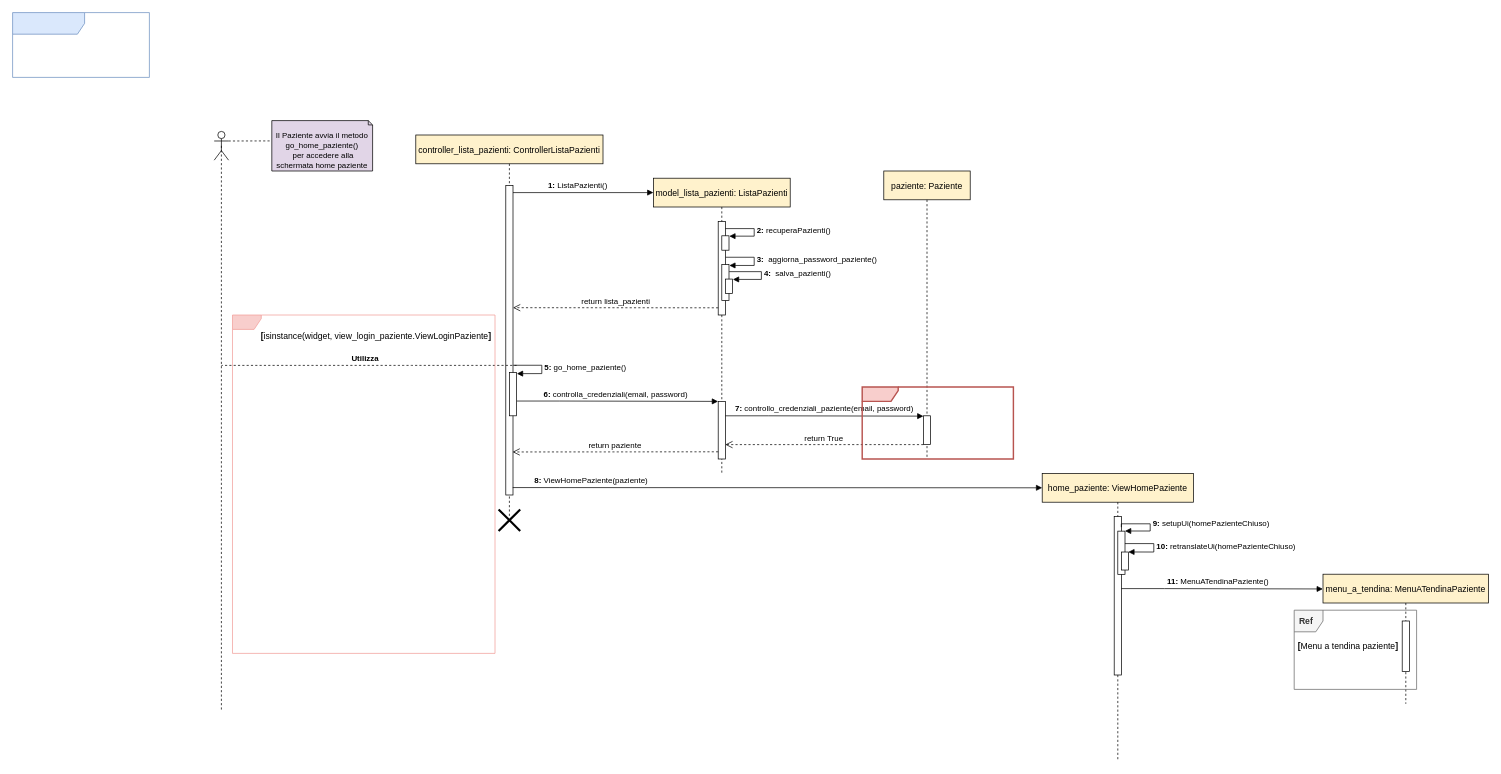
Image size: 1501x774. Some labels were removed from this diagram. Here are the shapes that lost their labels. From the top down, the centre of each, then its label:
[80,44]: Login Paziente
[221,145]: Utente
[937,422]: Alt
[363,483]: Opt
